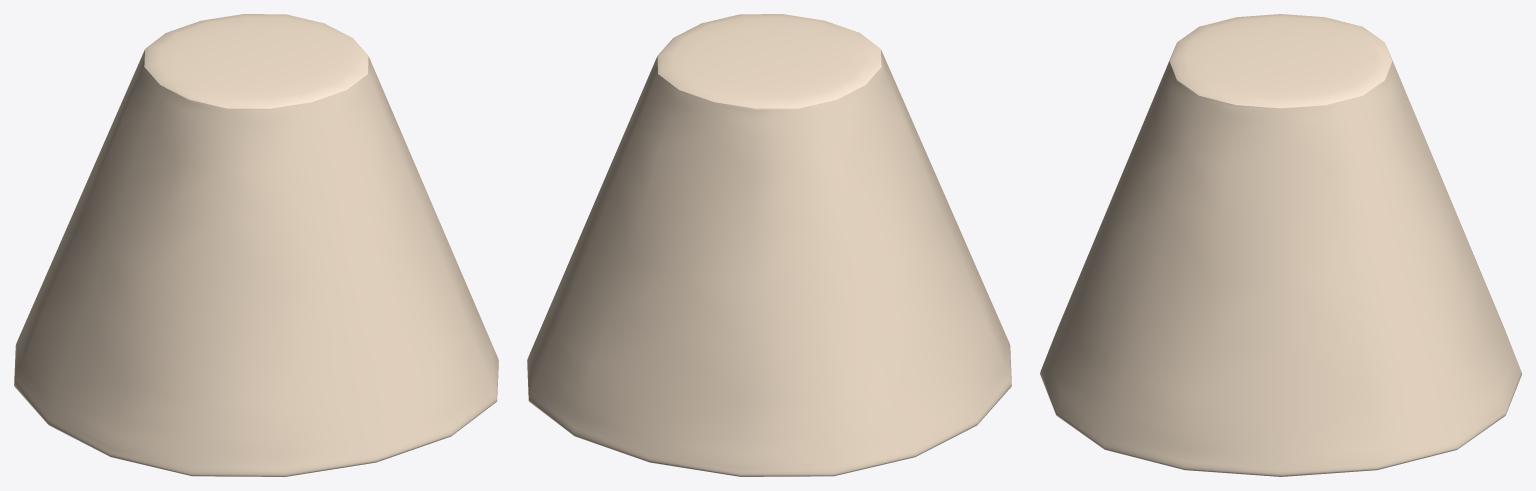
The model's file is lampara.gltf.
3 renders of one model, left to right at view 1: azimuth 30°, elevation 25°; view 2: azimuth 150°, elevation 25°; view 3: azimuth 270°, elevation 25°, orthographic.
Parts seen in each view (by area): view 1: Cube.22; view 2: Cube.22; view 3: Cube.22.
Boxes of the visible parts, <box> form: Cube.22: <box>14,14,498,476</box>; Cube.22: <box>527,14,1011,476</box>; Cube.22: <box>1040,14,1521,476</box>.
Size of the model in its own units: 0.6194 by 0.4544 by 0.6194.
